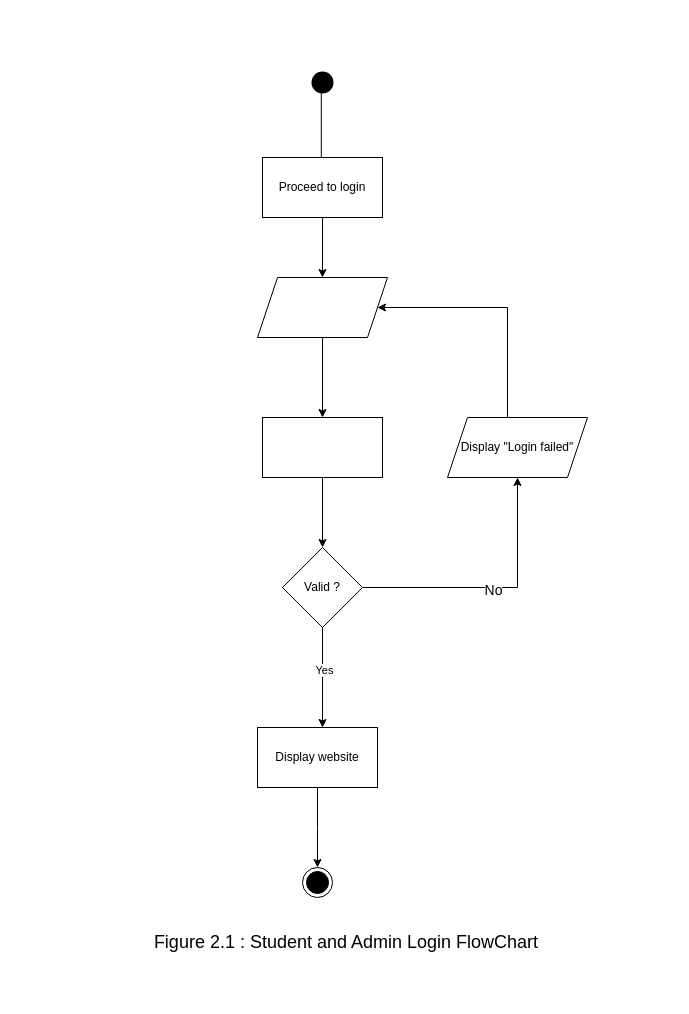
The diagram is 689 pixels wide and 1014 high, and some of its shapes have lost their labels. Each missing label, with the centre of its shape:
"Enters Email & Password" belongs at pixel 322 307.
"Validate" belongs at pixel 322 447.
